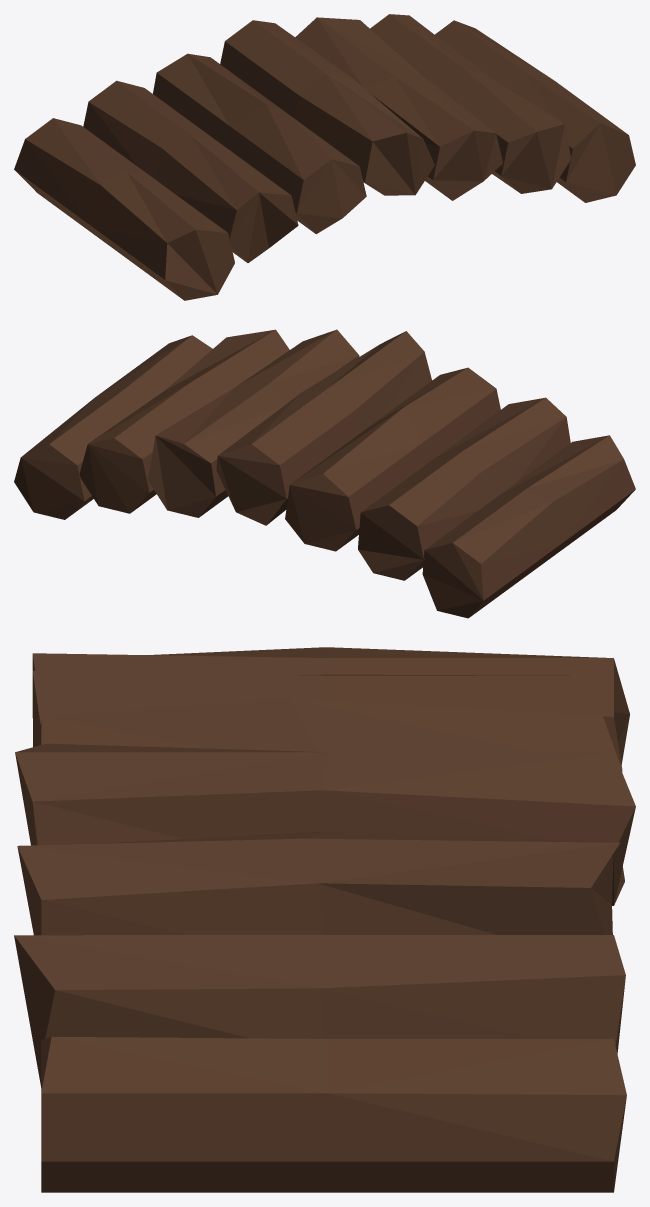
The model's file is bridge.fbx.
3 renders of one model, top to bottom at view 1: azimuth 30°, elevation 25°; view 2: azimuth 150°, elevation 25°; view 3: azimuth 270°, elevation 25°, orthographic. The views are drawn at different scales.
Parts seen in each view (by area): view 1: Cylinder; view 2: Cylinder; view 3: Cylinder.
Boxes of the visible parts, x1,y1,x2,y2 form: Cylinder: (14, 14, 635, 300); Cylinder: (14, 329, 635, 618); Cylinder: (14, 647, 635, 1192).
Bounding box in the file's own units: 1312 × 321 × 771.
